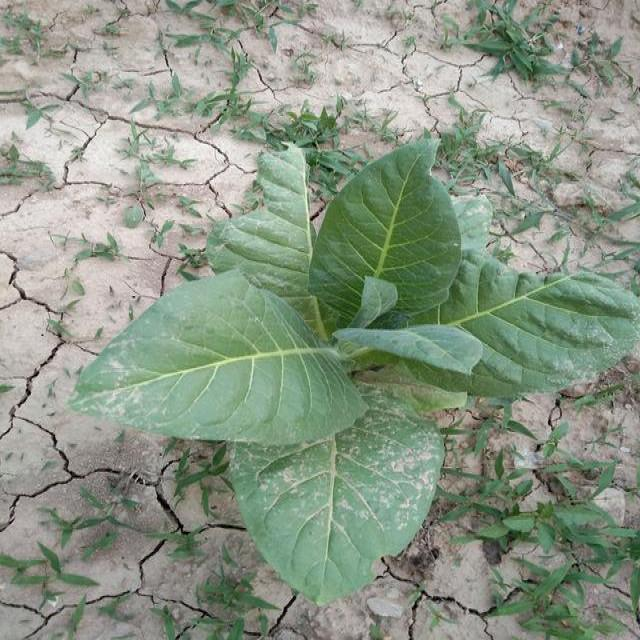crop: (62, 148, 640, 596)
